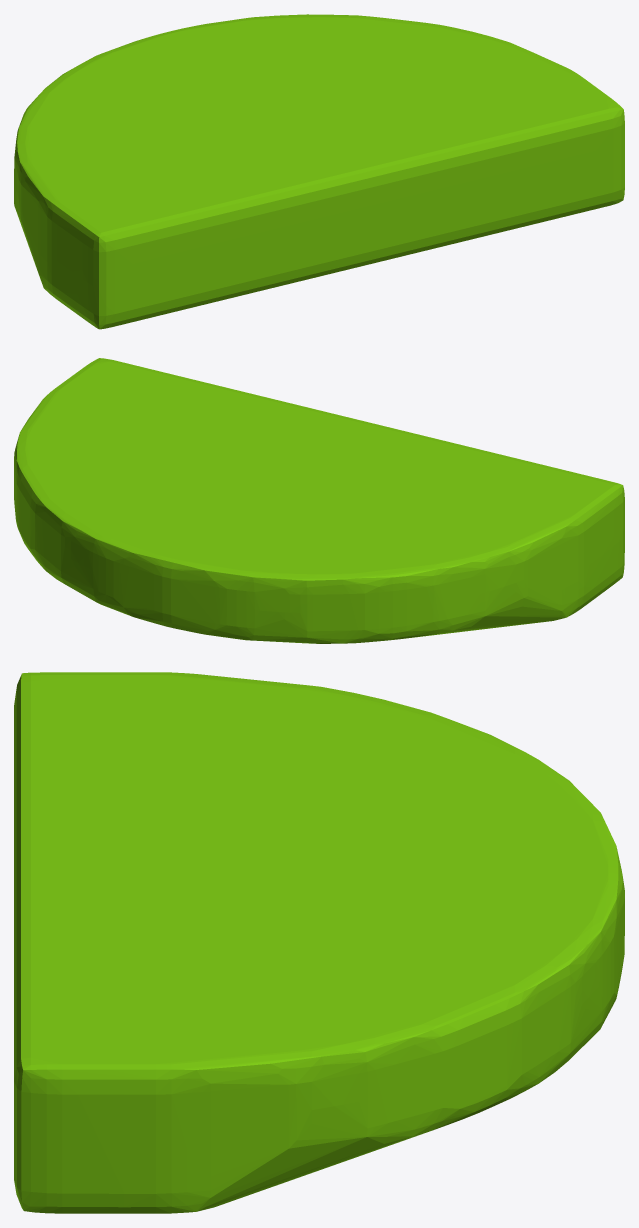
The model's file is left_shoulder_yaw_link_part_4.obj.
The picture shows the model from 3 angles, top to bottom: view 1: azimuth 30°, elevation 25°; view 2: azimuth 150°, elevation 25°; view 3: azimuth 270°, elevation 25°; orthographic projection. The views are drawn at different scales.
Size of the model in its own units: 0.0987 by 0.0168 by 0.0633.
